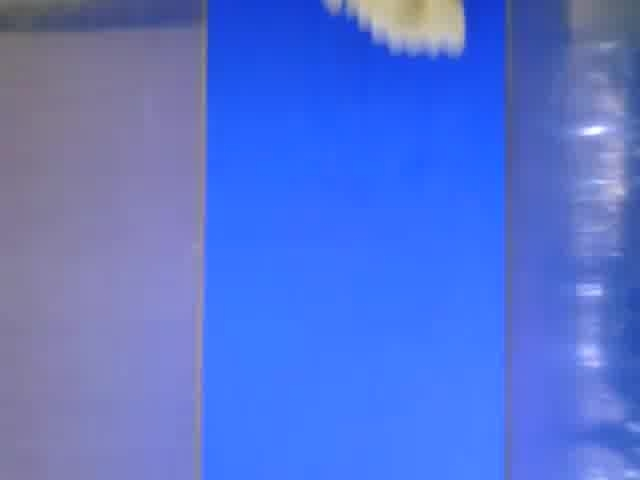farfalle: (327, 1, 473, 65)
